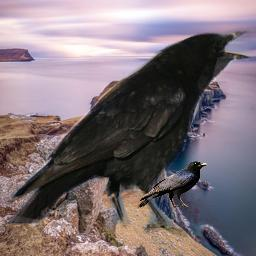Crow: (4, 26, 256, 241), (137, 160, 207, 208)
